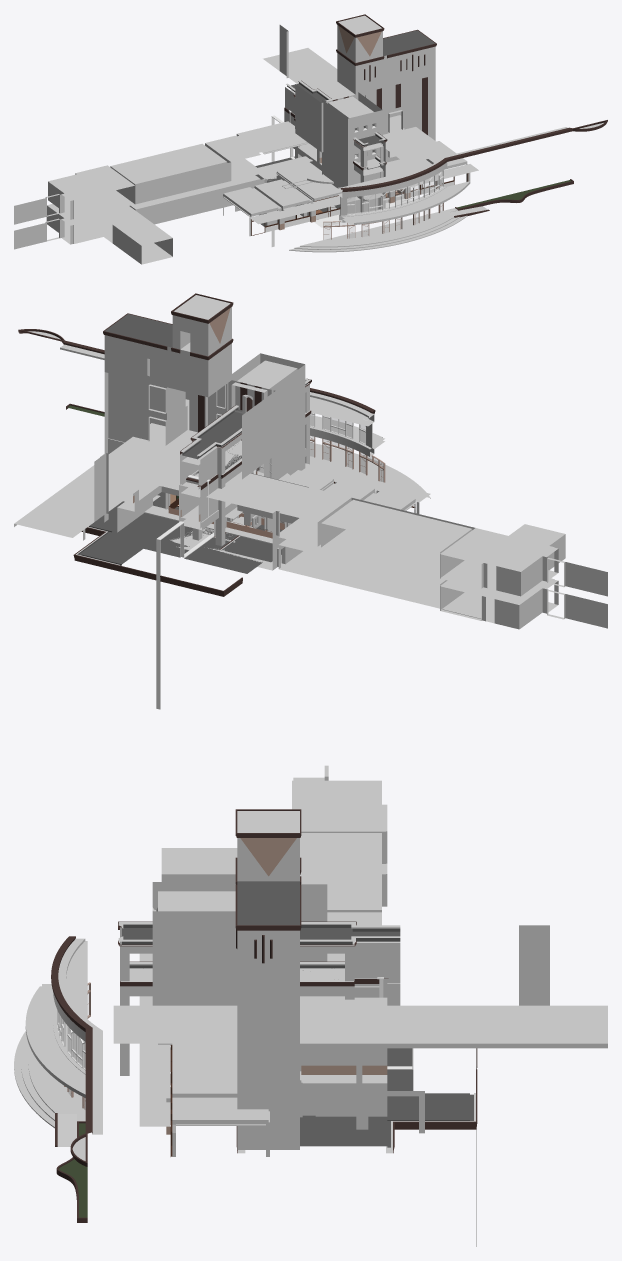
Rendered from anime_school.glb.
3 renders of one model, top to bottom at view 1: azimuth 30°, elevation 25°; view 2: azimuth 150°, elevation 25°; view 3: azimuth 270°, elevation 25°, orthographic. The views are drawn at different scales.
Visible parts, largest first — view 1: Entrance_Inside_Main, MB_Entrance_Wall_Secondary, Classroom_3x4.001, MB_Entrance_Wall, MB_Entrance_Roof_Inner, MB_Entrance_Floor, MB_Entrance_Roof_Edge_Lower, MB_Entrance_Wall_Glass, Bridge_Center, MB_Entrance_Roof_Edge, Classroom_3x2_Walls, Bridge_Left (+3 smaller); view 2: Entrance_Inside_Main, MB_Entrance_Wall_Secondary, MB_Entrance_Roof_Inner, MB_Roof_Surface_Section_Middle, MB_Entrance_Wall, Bridge_Center, Classroom_3x4.001, MB_Entrance_Roof_Edge_Lower, MB_Entrance_Floor, MB_Entrance_Wall_Glass, MB_Entrance_Roof_Edge, MB_Entrance_Wall_Bridge_Connection (+4 smaller); view 3: MB_Entrance_Wall_Secondary, MB_Entrance_Roof_Inner, Entrance_Inside_Main, MB_Entrance_Wall, Bridge_Center, MB_Roof_Surface_Section_Middle, Classroom_3x4.001, MB_Entrance_Floor, MB_Entrance_Roof_Edge_Lower, MB_Entrance_Roof_Edge, Bridge_Left, Classroom_3x4.006 (+3 smaller).
Part boxes in pixels (left/top/right/bottom): Entrance_Inside_Main: left=14, top=121, right=312, bottom=264; MB_Entrance_Wall_Secondary: left=295, top=14, right=436, bottom=162; Classroom_3x4.001: left=223, top=141, right=478, bottom=236; MB_Entrance_Wall: left=322, top=92, right=382, bottom=213; MB_Entrance_Roof_Inner: left=263, top=25, right=451, bottom=163; MB_Entrance_Floor: left=289, top=179, right=573, bottom=252; MB_Entrance_Roof_Edge_Lower: left=337, top=162, right=470, bottom=225; MB_Entrance_Wall_Glass: left=323, top=170, right=443, bottom=239; Bridge_Center: left=285, top=80, right=387, bottom=211; MB_Entrance_Roof_Edge: left=338, top=120, right=607, bottom=191; Classroom_3x2_Walls: left=276, top=163, right=414, bottom=217; Bridge_Left: left=294, top=118, right=386, bottom=212; Entrance_Inside_Main: left=108, top=438, right=607, bottom=629; MB_Entrance_Wall_Secondary: left=103, top=293, right=275, bottom=509; MB_Entrance_Roof_Inner: left=14, top=399, right=197, bottom=540; MB_Roof_Surface_Section_Middle: left=73, top=492, right=282, bottom=709; MB_Entrance_Wall: left=205, top=353, right=305, bottom=479; Bridge_Center: left=180, top=378, right=311, bottom=545; Classroom_3x4.001: left=100, top=454, right=430, bottom=513; MB_Entrance_Roof_Edge_Lower: left=310, top=397, right=384, bottom=456; MB_Entrance_Floor: left=66, top=403, right=430, bottom=498; MB_Entrance_Wall_Glass: left=310, top=412, right=385, bottom=482; MB_Entrance_Roof_Edge: left=18, top=329, right=375, bottom=417; MB_Entrance_Wall_Bridge_Connection: left=179, top=470, right=221, bottom=530; MB_Entrance_Wall_Secondary: left=235, top=809, right=327, bottom=1149; MB_Entrance_Roof_Inner: left=113, top=925, right=607, bottom=1133; Entrance_Inside_Main: left=161, top=765, right=387, bottom=1116; MB_Entrance_Wall: left=152, top=882, right=237, bottom=1044; Bridge_Center: left=118, top=921, right=400, bottom=1075; MB_Roof_Surface_Section_Middle: left=236, top=1048, right=477, bottom=1246; Classroom_3x4.001: left=139, top=953, right=269, bottom=1156; MB_Entrance_Floor: left=14, top=1024, right=87, bottom=1222; MB_Entrance_Roof_Edge_Lower: left=25, top=941, right=87, bottom=1097; MB_Entrance_Roof_Edge: left=51, top=936, right=102, bottom=1166; Bridge_Left: left=120, top=961, right=354, bottom=1075; Classroom_3x4.006: left=139, top=1043, right=302, bottom=1117.
Size of what is drawn, in the model's own units: 79.87 by 37.8 by 45.58.
